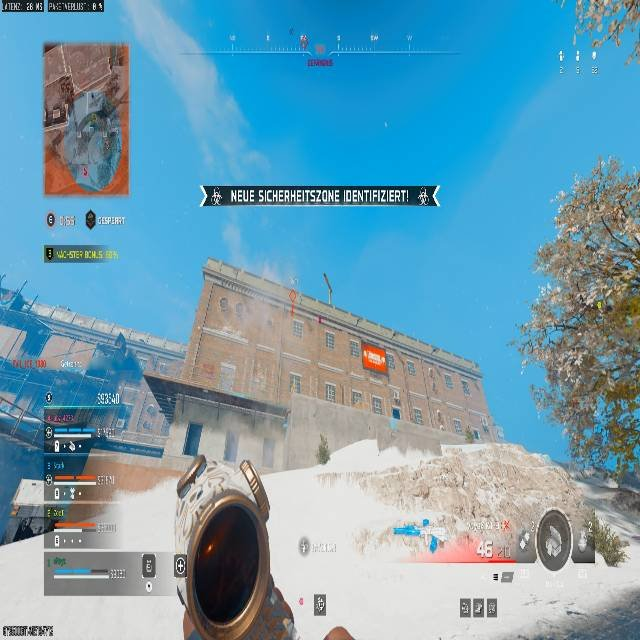head: (172, 487, 268, 628)
